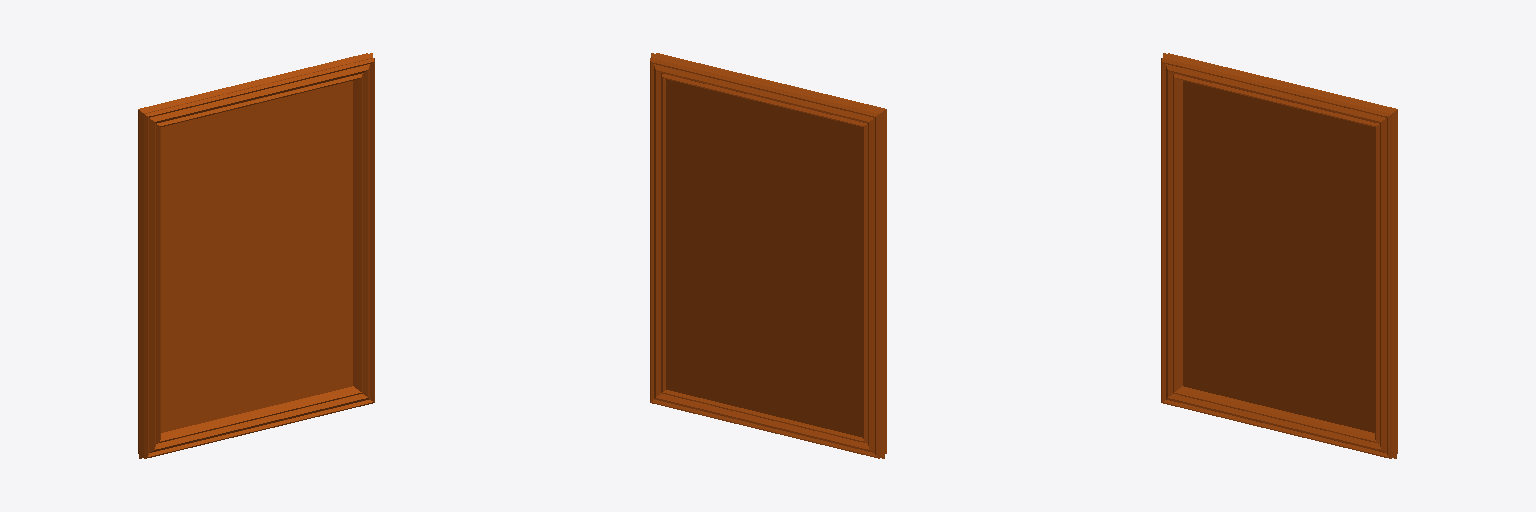
File: Painting_Small.obj
The picture shows the model from 3 angles: view 1: azimuth 30°, elevation 25°; view 2: azimuth 150°, elevation 25°; view 3: azimuth 330°, elevation 25°; orthographic projection.
Parts seen in each view (by area): view 1: Painting_Small; view 2: Painting_Small; view 3: Painting_Small.
Boxes of the visible parts, box(x1,y1,x2,y2) form: Painting_Small: box(138, 53, 374, 458); Painting_Small: box(650, 53, 886, 458); Painting_Small: box(1161, 53, 1397, 458).
Size of the model in its own units: 1.29 by 1.84 by 0.1036.